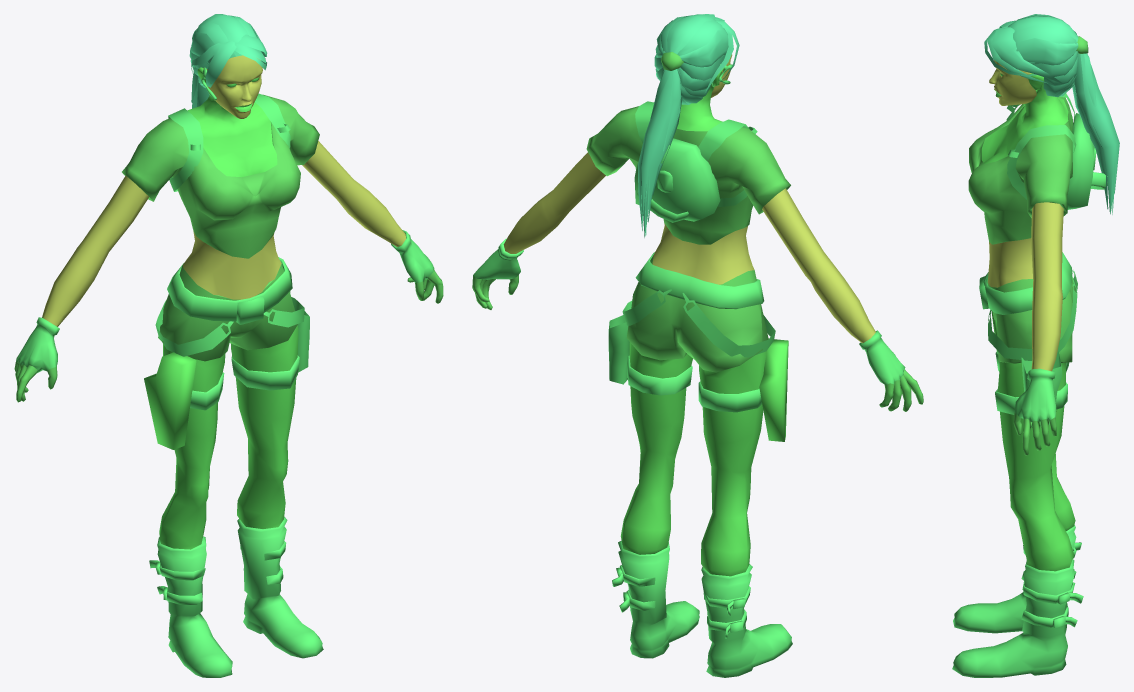
The model's file is Lara_Croft.obj.
3 views of the same model, side by side, from view 1: azimuth 30°, elevation 25°; view 2: azimuth 150°, elevation 25°; view 3: azimuth 270°, elevation 25° (orthographic). The views are drawn at different scales.
Visible parts, largest first — view 1: ct_urban.ct_urban_reference.smd.mesh_02, ct_urban.ct_urban_reference.smd.mesh_05, ct_urban.ct_urban_reference.smd.mesh_03, ct_urban.ct_urban_reference.smd.mesh_04, ct_urban.ct_urban_reference.smd.mesh_01, ct_urban.ct_urban_reference.smd.mesh_06; view 2: ct_urban.ct_urban_reference.smd.mesh_02, ct_urban.ct_urban_reference.smd.mesh_03, ct_urban.ct_urban_reference.smd.mesh_05, ct_urban.ct_urban_reference.smd.mesh_04, ct_urban.ct_urban_reference.smd.mesh_01, ct_urban.ct_urban_reference.smd.mesh_06; view 3: ct_urban.ct_urban_reference.smd.mesh_02, ct_urban.ct_urban_reference.smd.mesh_05, ct_urban.ct_urban_reference.smd.mesh_03, ct_urban.ct_urban_reference.smd.mesh_01, ct_urban.ct_urban_reference.smd.mesh_04.
Boxes of the visible parts, box(x1,y1,x2,y2) form: ct_urban.ct_urban_reference.smd.mesh_02: box(16, 67, 434, 677); ct_urban.ct_urban_reference.smd.mesh_05: box(14, 94, 443, 402); ct_urban.ct_urban_reference.smd.mesh_03: box(159, 67, 298, 549); ct_urban.ct_urban_reference.smd.mesh_04: box(42, 55, 405, 326); ct_urban.ct_urban_reference.smd.mesh_01: box(189, 14, 267, 108); ct_urban.ct_urban_reference.smd.mesh_06: box(144, 352, 196, 449); ct_urban.ct_urban_reference.smd.mesh_02: box(473, 64, 905, 677); ct_urban.ct_urban_reference.smd.mesh_03: box(620, 68, 766, 576); ct_urban.ct_urban_reference.smd.mesh_05: box(472, 52, 923, 411); ct_urban.ct_urban_reference.smd.mesh_04: box(503, 54, 875, 343); ct_urban.ct_urban_reference.smd.mesh_01: box(638, 14, 739, 237); ct_urban.ct_urban_reference.smd.mesh_06: box(759, 339, 788, 441); ct_urban.ct_urban_reference.smd.mesh_02: box(952, 93, 1107, 677); ct_urban.ct_urban_reference.smd.mesh_05: box(968, 36, 1088, 455); ct_urban.ct_urban_reference.smd.mesh_03: box(981, 73, 1075, 571); ct_urban.ct_urban_reference.smd.mesh_01: box(984, 14, 1119, 214); ct_urban.ct_urban_reference.smd.mesh_04: box(987, 60, 1063, 371).
Bounding box in the file's own units: 55.34 × 76.63 × 18.54.
